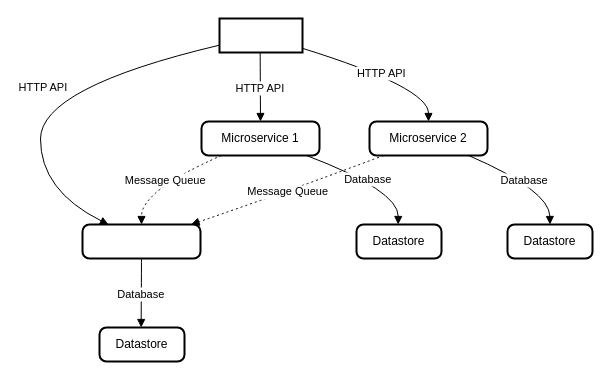
Image size: 610x379. Some labels were removed from this diagram. Here are the shapes that lost their labels. From the top down, the box of each, then its label:
(218, 17, 303, 53): IELTS App
(81, 223, 201, 259): Microservice 3
